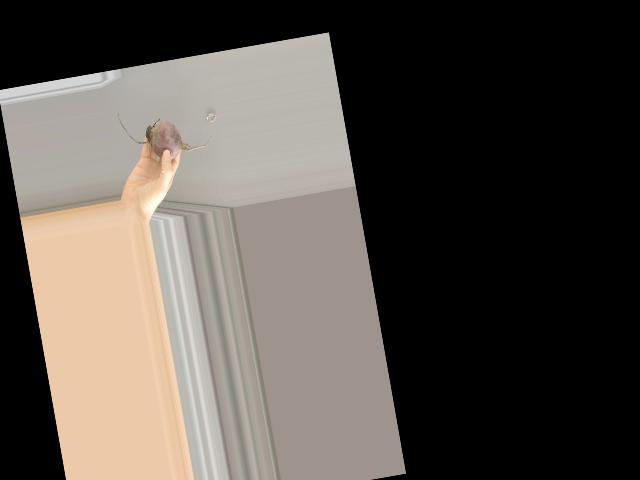beet: (116, 96, 215, 167)
